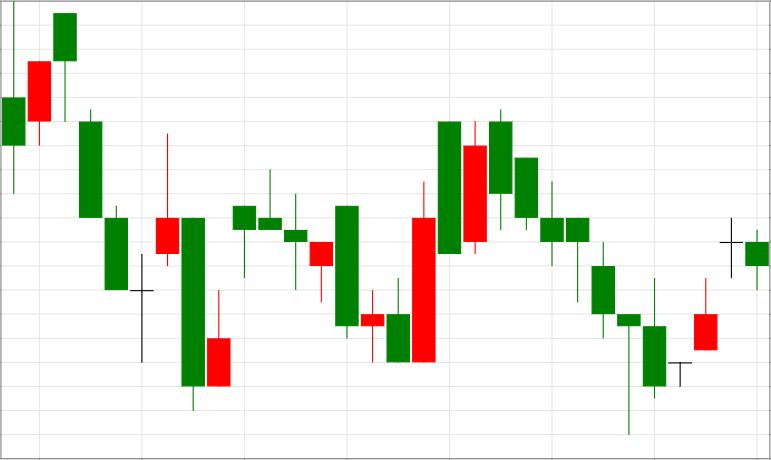bullish_engulfing_rise: (233, 169, 435, 364)
